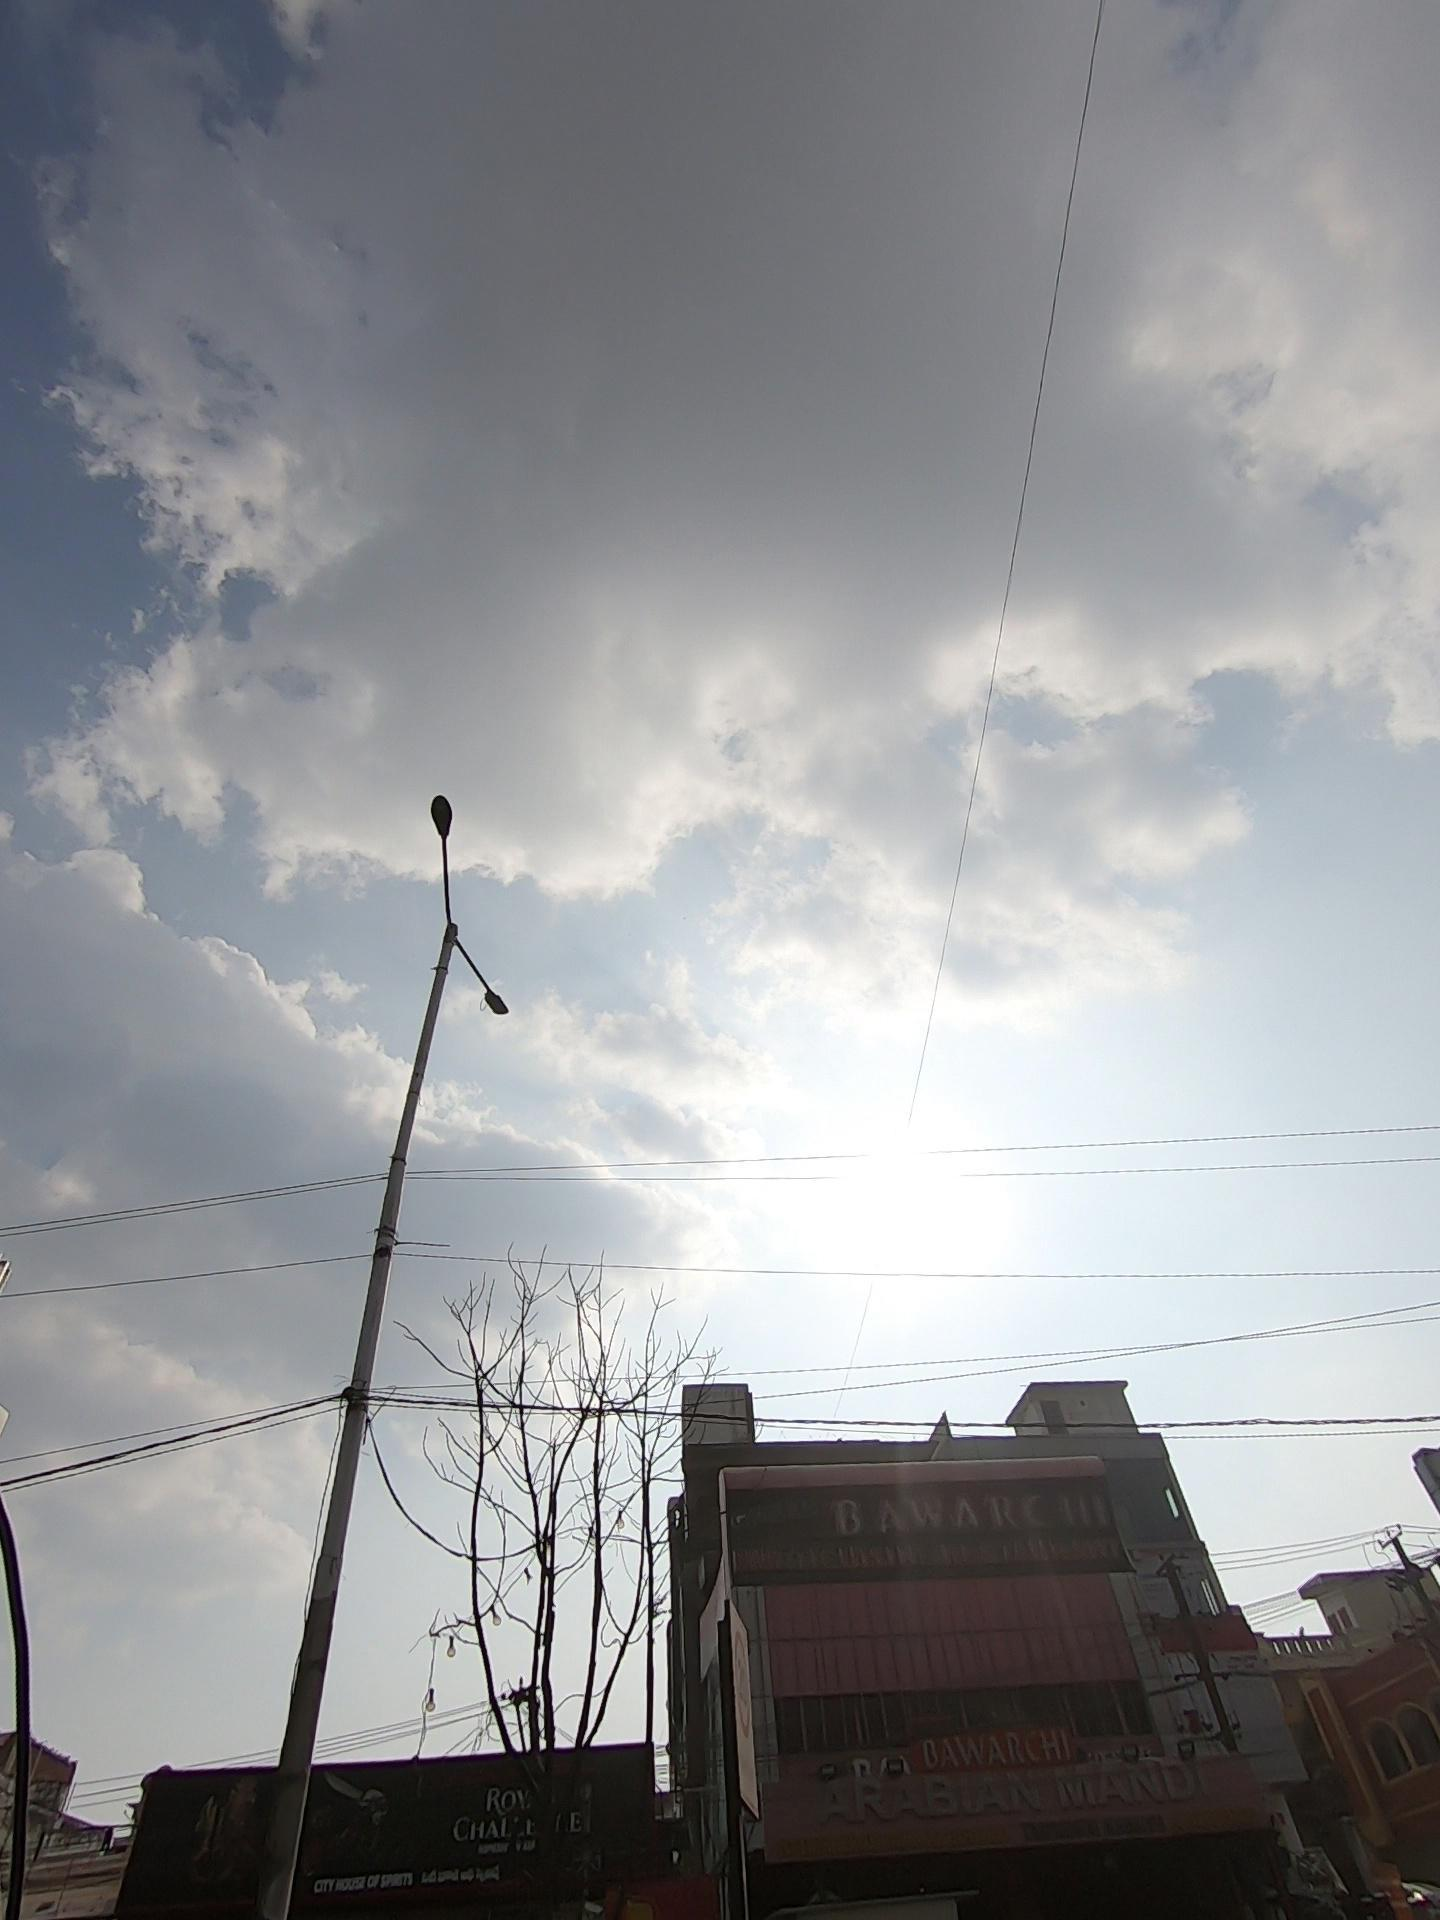off: (349, 706, 620, 1123)
